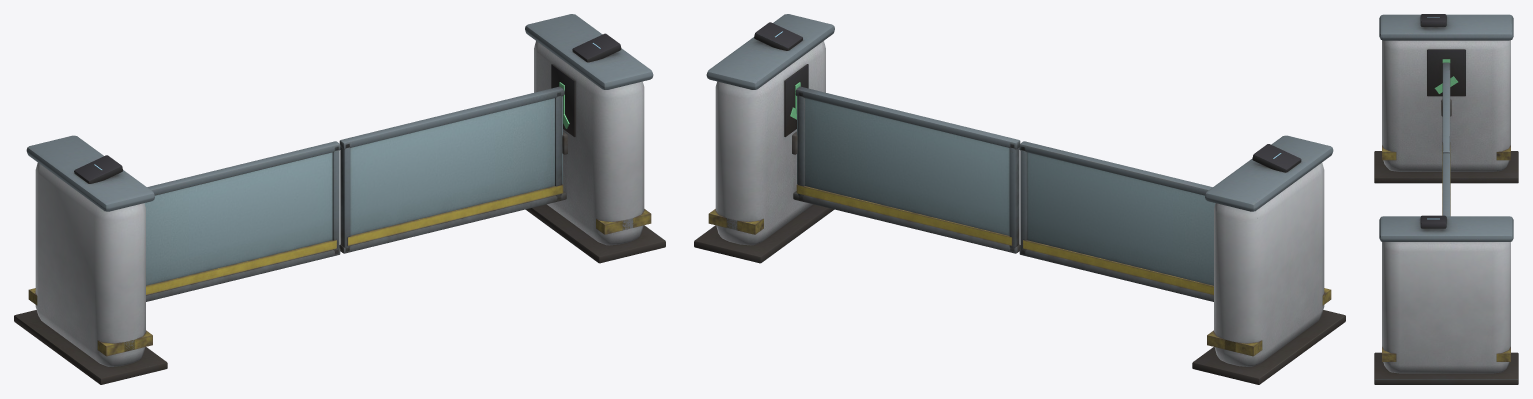
The model's file is g67_pz_arena_gate.glb.
3 views of the same model, side by side, from view 1: azimuth 30°, elevation 25°; view 2: azimuth 150°, elevation 25°; view 3: azimuth 270°, elevation 25° (orthographic). The views are drawn at different scales.
Visible parts, largest first — view 1: g67_pz_arena_gate, turnstile_gate_r, turnstile_gate_l; view 2: g67_pz_arena_gate, turnstile_gate_r, turnstile_gate_l; view 3: g67_pz_arena_gate, turnstile_gate_l, turnstile_gate_r.
Boxes of the visible parts, x1,y1,x2,y2 form: g67_pz_arena_gate: (14,14,665,384); turnstile_gate_r: (339,86,566,253); turnstile_gate_l: (144,141,340,301); g67_pz_arena_gate: (694,14,1345,384); turnstile_gate_r: (793,86,1020,253); turnstile_gate_l: (1019,141,1215,301); g67_pz_arena_gate: (1374,14,1518,384); turnstile_gate_l: (1442,62,1450,215); turnstile_gate_r: (1442,153,1450,216).
Size of the model in its own units: 4.2 by 1.33 by 1.12.
Materials: 1 (1 with a texture image).
